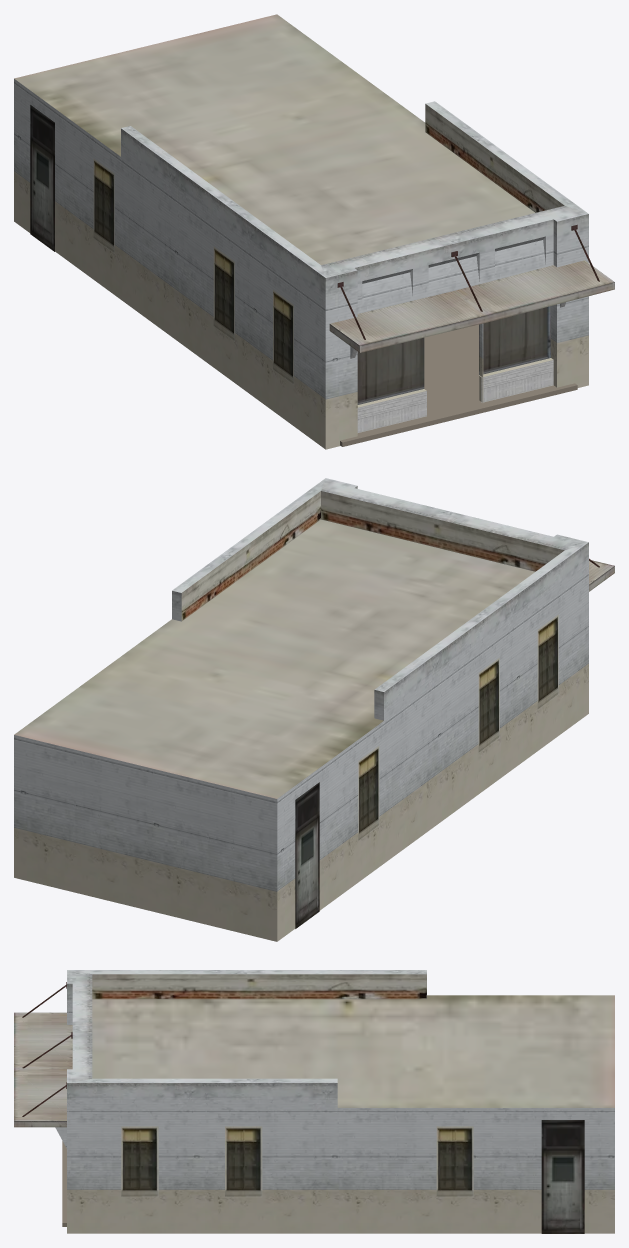
File: rural-store-3.zfix-v1.lod0.glb
3 views of the same model, one above another, from view 1: azimuth 30°, elevation 25°; view 2: azimuth 150°, elevation 25°; view 3: azimuth 270°, elevation 25° (orthographic). The views are drawn at different scales.
Visible parts, largest first — view 1: Rural_StoreSmall_3_Rural_Facade_FLR_2_0, Rural_StoreSmall_3_Rural_Midcity_Walls_FLR_1_0, Walkable floors and stairs; view 2: Rural_StoreSmall_3_Rural_Facade_FLR_2_0, Rural_StoreSmall_3_Rural_Midcity_Walls_FLR_1_0; view 3: Rural_StoreSmall_3_Rural_Facade_FLR_2_0, Rural_StoreSmall_3_Rural_Midcity_Walls_FLR_1_0, Walkable floors and stairs.
Part boxes in pixels (x1,y1,x2,y2): Rural_StoreSmall_3_Rural_Facade_FLR_2_0: [14, 14, 614, 404]; Rural_StoreSmall_3_Rural_Midcity_Walls_FLR_1_0: [14, 79, 588, 449]; Walkable floors and stairs: [340, 324, 577, 446]; Rural_StoreSmall_3_Rural_Facade_FLR_2_0: [14, 491, 614, 928]; Rural_StoreSmall_3_Rural_Midcity_Walls_FLR_1_0: [14, 478, 588, 941]; Rural_StoreSmall_3_Rural_Facade_FLR_2_0: [14, 974, 614, 1233]; Rural_StoreSmall_3_Rural_Midcity_Walls_FLR_1_0: [55, 970, 614, 1233]; Walkable floors and stairs: [62, 1141, 66, 1226].
Size of the model in its own units: 6.07 by 3.76 by 13.59.
3 materials, 2 textured.
